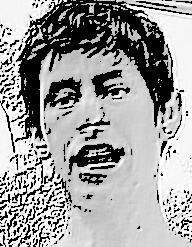nose_M_C: (75, 99, 111, 137)
